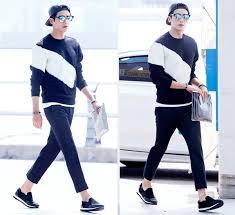pants: (143, 100, 211, 190), (26, 104, 90, 194)
sweater: (29, 33, 92, 110), (146, 32, 201, 113)
